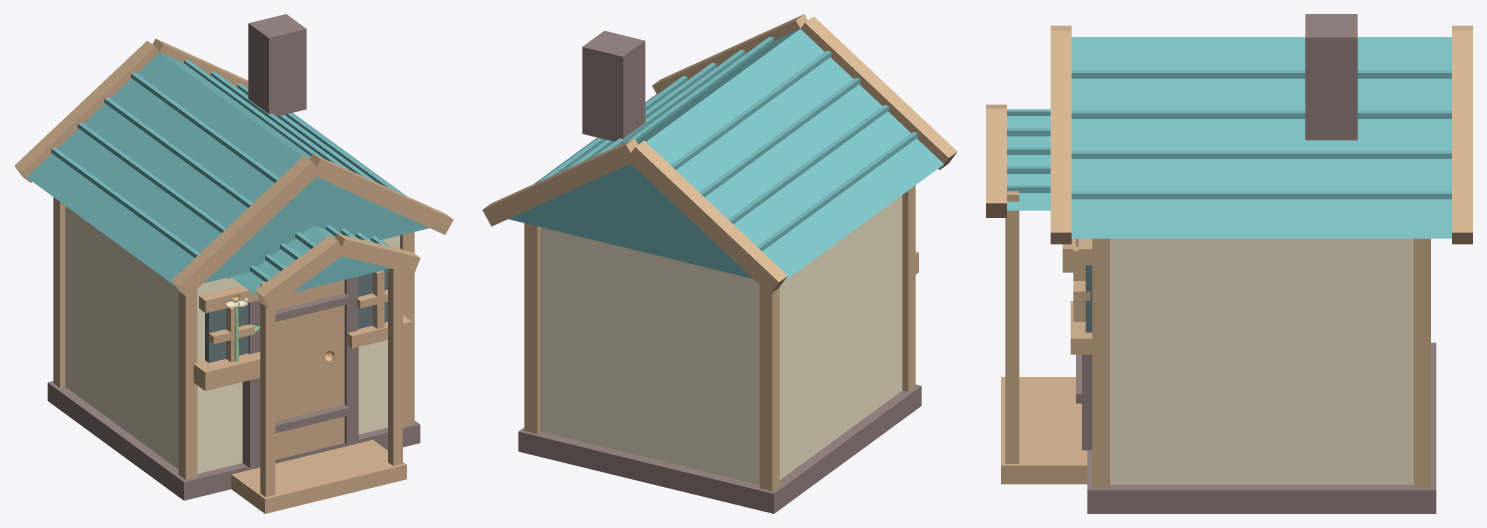
The model's file is meadow-courier-garden-cottage__26.glb.
The picture shows the model from 3 angles, left to right: view 1: azimuth 30°, elevation 25°; view 2: azimuth 150°, elevation 25°; view 3: azimuth 270°, elevation 25°; orthographic projection. The views are drawn at different scales.
Parts seen in each view (by area): view 1: meadow-courier-garden-cottage; view 2: meadow-courier-garden-cottage; view 3: meadow-courier-garden-cottage.
Boxes of the visible parts, box(x1,y1,x2,y2) form: meadow-courier-garden-cottage: box(14, 14, 453, 513); meadow-courier-garden-cottage: box(482, 14, 957, 513); meadow-courier-garden-cottage: box(986, 14, 1472, 513).
Bounding box in the file's own units: 2.32 × 2.9 × 2.79.
